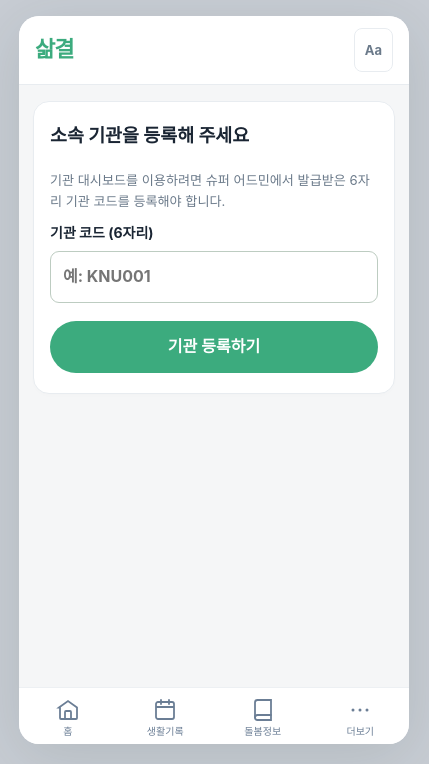
기관 등록 요청이 실패하면 온보딩 폼 내에 에러 메시지를 표시한다
Expected: the heading "소속 기관을 등록해 주세요" is shown, x1=50 y1=124 x2=249 y2=146
Type "DUP001" into the field labelled "기관 코드 (6자리)". click: (214, 277)
box: x1=50 y1=251 x2=378 y2=303
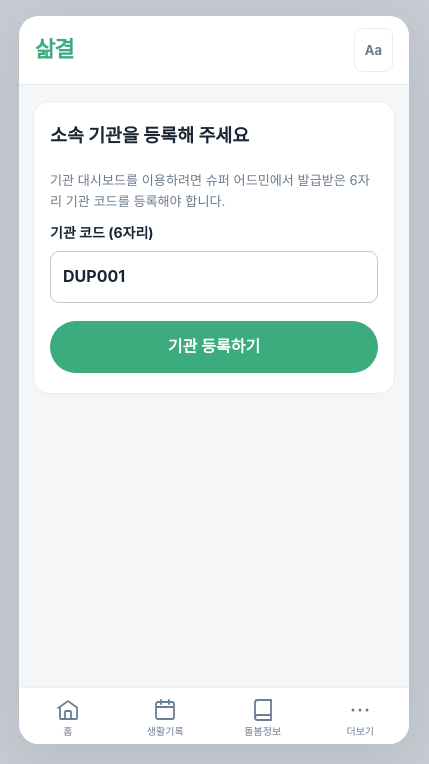
Click the button "기관 등록하기". click: (214, 347)
box: x1=50 y1=321 x2=378 y2=373
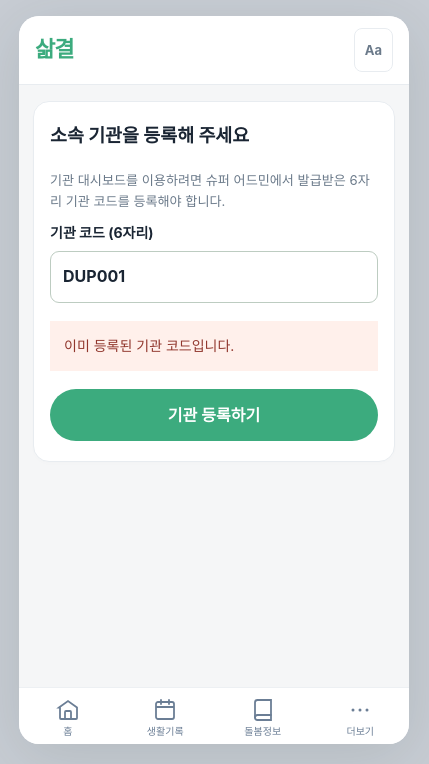
Expected: the heading "소속 기관을 등록해 주세요" is shown, x1=50 y1=124 x2=249 y2=146
Expected: the message reads "이미 등록된 기관 코드입니다.", x1=64 y1=337 x2=234 y2=354
